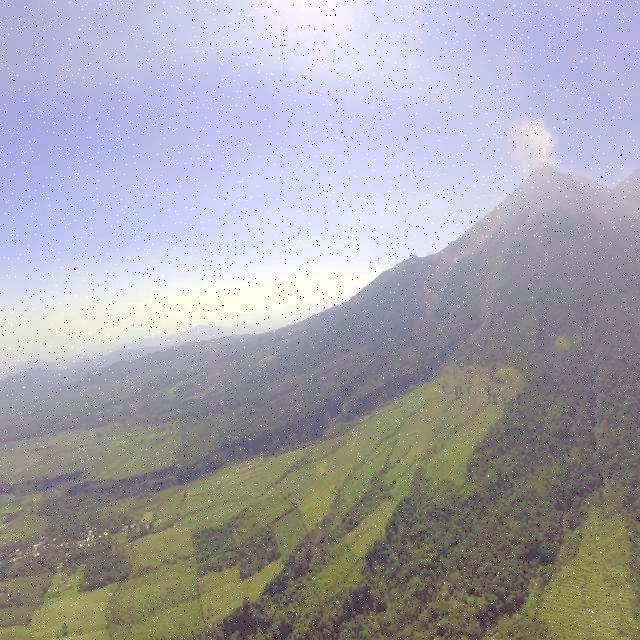Plume: (512, 116, 556, 162)
Summit: (530, 158, 552, 178)
